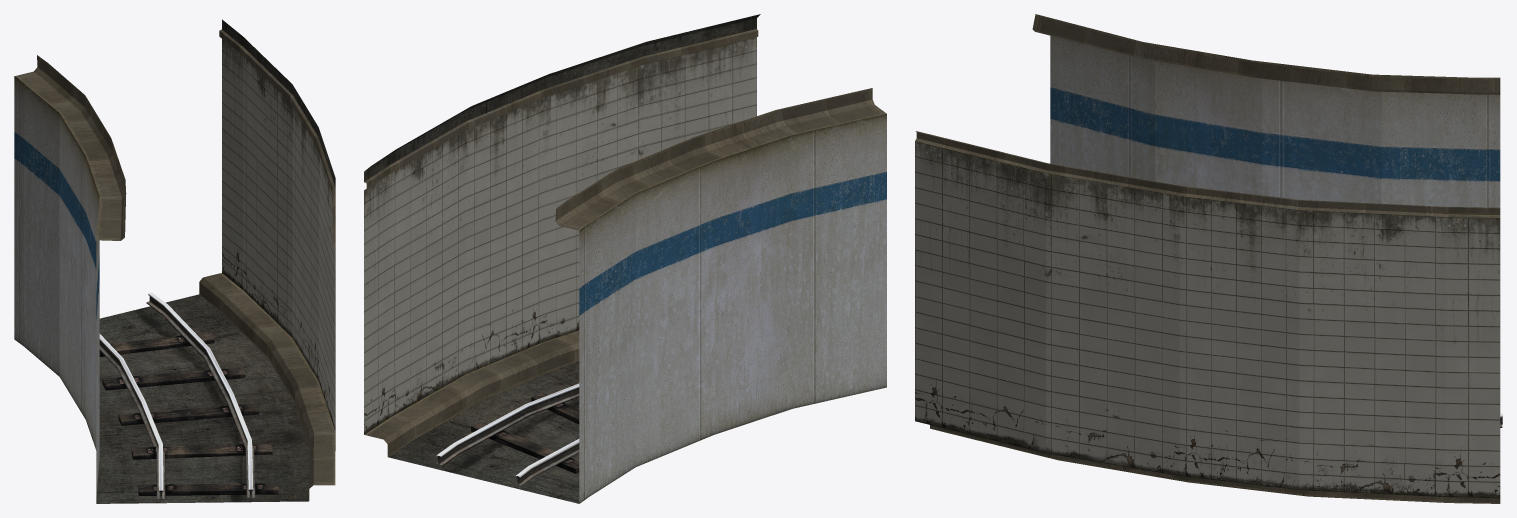
Rendered from TunnelC.fbx.
3 renders of one model, left to right at view 1: azimuth 30°, elevation 25°; view 2: azimuth 150°, elevation 25°; view 3: azimuth 270°, elevation 25°, orthographic. The views are drawn at different scales.
Parts seen in each view (by area): view 1: TunnelC; view 2: TunnelC; view 3: TunnelC.
Boxes of the visible parts, box(x1,y1,x2,y2) form: TunnelC: box(14, 19, 335, 503); TunnelC: box(364, 14, 886, 503); TunnelC: box(915, 14, 1502, 503).
Bounding box in the file's own units: 648 × 559 × 882.
